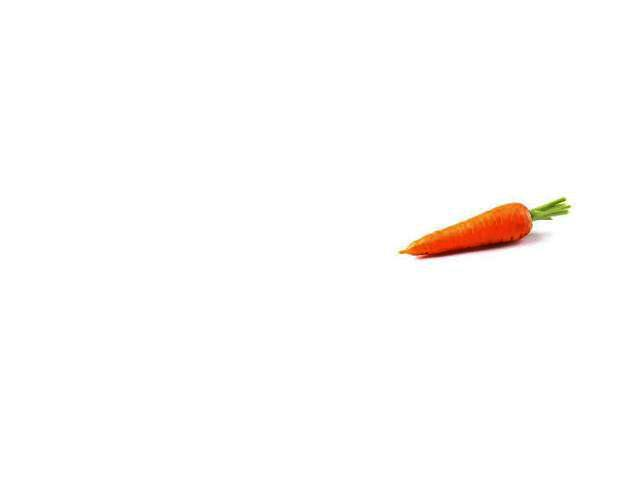carrot: (396, 201, 534, 262)
